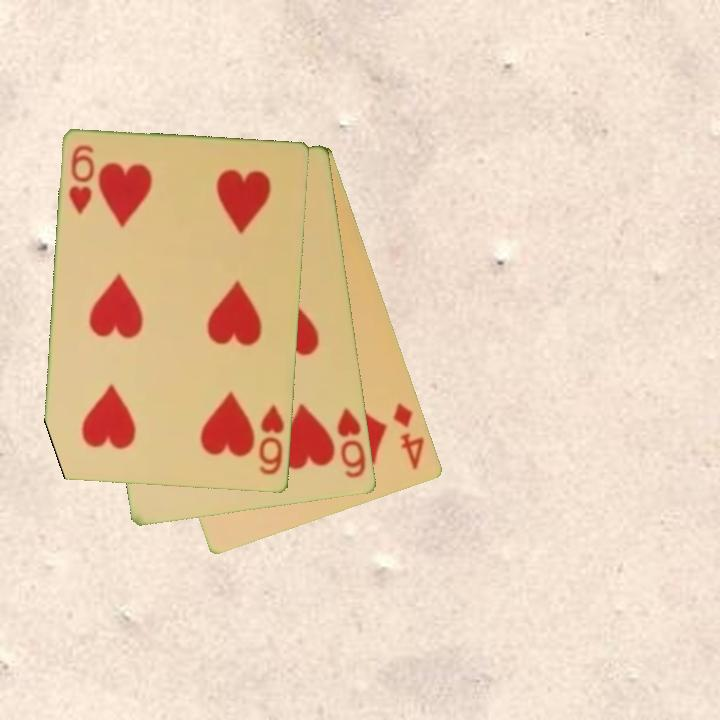4d: (390, 399, 428, 473)
6h: (334, 404, 369, 482), (256, 401, 288, 478), (66, 142, 98, 218)
